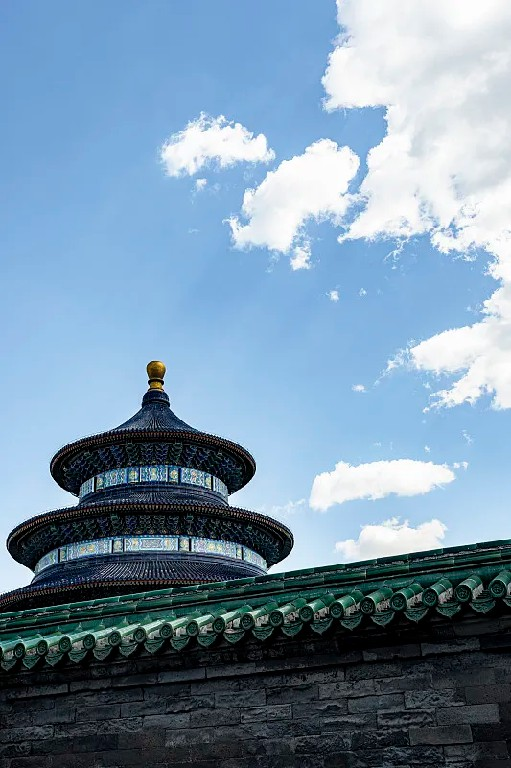Heaven: (1, 360, 296, 613)
